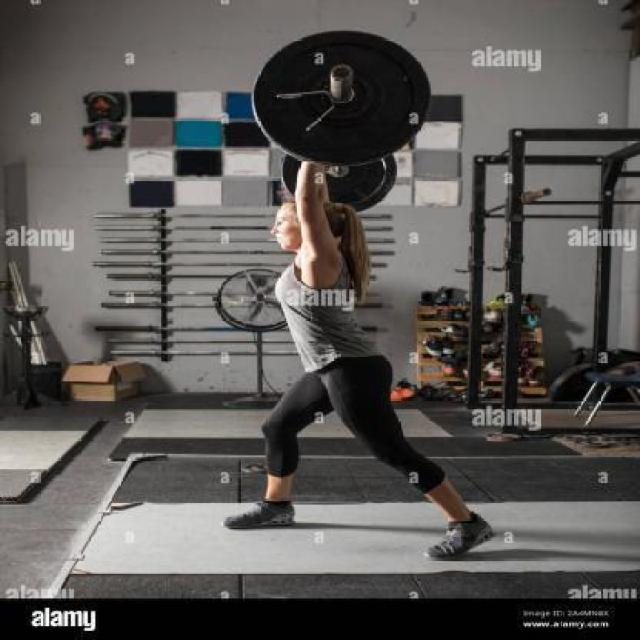barbell: (247, 26, 435, 180)
